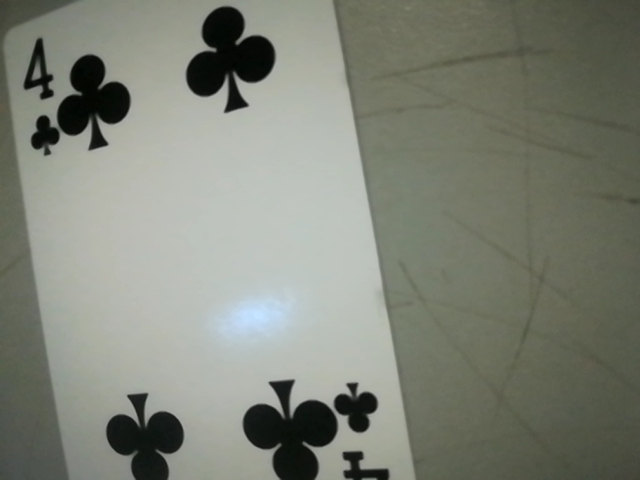mh 4: (1, 33, 61, 172)
